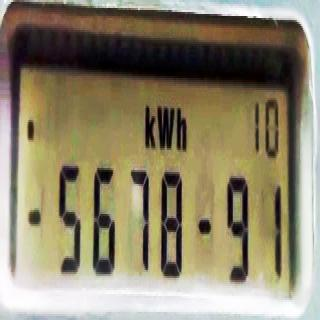-: (26, 197, 42, 235), (197, 210, 211, 248), (26, 113, 34, 149)
0: (264, 87, 280, 165)
1: (270, 173, 285, 287), (252, 93, 262, 161)
5: (56, 157, 86, 281)
6: (90, 157, 118, 284)
7: (130, 160, 152, 282)
8: (159, 162, 184, 285)
9: (222, 164, 252, 291)
